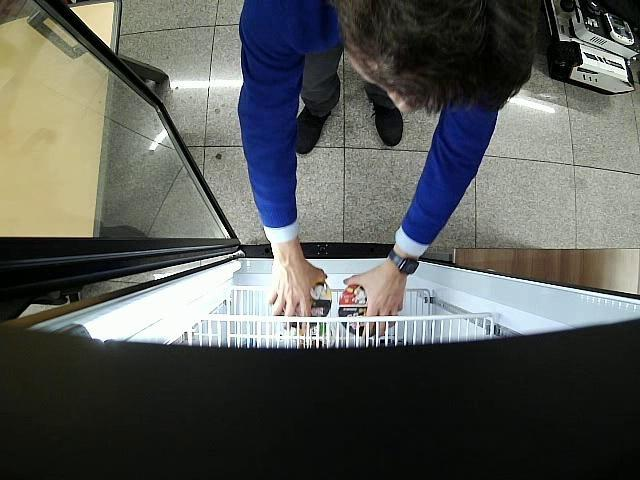07_buldak_L: (339, 284, 396, 332), (291, 282, 332, 328)
